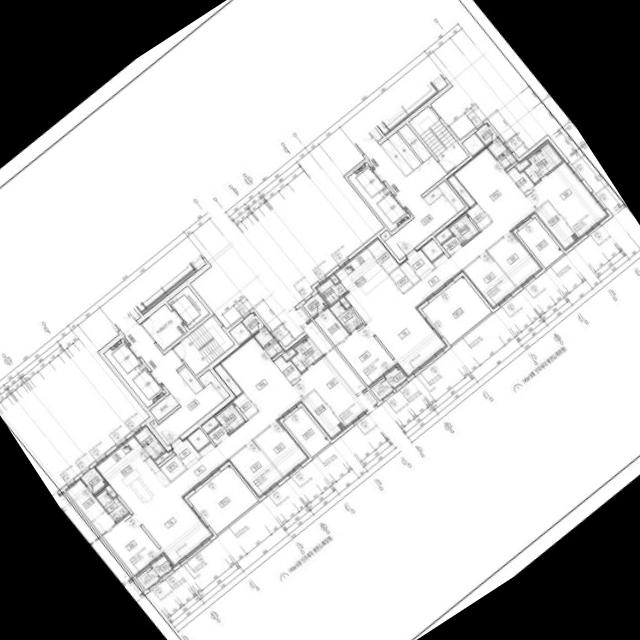background: (0, 0, 640, 640)
space_balconi: (187, 464, 257, 534), (420, 275, 491, 344), (516, 217, 563, 267), (282, 406, 329, 456), (369, 366, 406, 400), (150, 555, 173, 577)
space_bedroom: (524, 160, 608, 238), (291, 349, 374, 427), (91, 511, 162, 575), (335, 323, 396, 386), (487, 230, 542, 287), (253, 419, 308, 476), (228, 440, 283, 497), (462, 251, 516, 308)
space_dressroom: (300, 390, 341, 439), (534, 201, 575, 249), (65, 477, 104, 521), (312, 306, 348, 345), (273, 355, 300, 381), (507, 166, 533, 192)
space_elevator: (167, 285, 209, 329), (347, 161, 388, 203), (369, 188, 409, 231), (125, 364, 165, 407), (103, 338, 143, 380)
space_elevator_hall: (114, 303, 224, 445), (355, 131, 457, 259)
space_front: (398, 248, 434, 284), (170, 437, 200, 468)
space_kitchen: (94, 435, 170, 513), (333, 246, 403, 322)
space_living_room: (366, 146, 535, 376), (133, 336, 302, 566)
space_multipurpose_space: (133, 424, 165, 459), (486, 136, 516, 169), (253, 325, 283, 358), (314, 276, 347, 305)
space_other: (397, 123, 431, 161), (387, 131, 421, 169), (380, 138, 413, 175), (366, 237, 399, 273), (446, 173, 475, 207), (212, 363, 241, 396), (198, 369, 229, 399), (437, 180, 465, 212), (149, 393, 178, 420), (177, 366, 202, 393), (465, 203, 490, 229), (232, 392, 257, 418), (160, 455, 185, 480), (389, 266, 412, 292), (420, 237, 443, 261), (461, 132, 484, 155), (136, 566, 159, 589), (186, 427, 209, 450), (229, 322, 250, 343), (423, 186, 442, 204), (434, 226, 452, 243), (200, 415, 218, 432), (154, 449, 172, 464), (514, 157, 529, 171), (281, 346, 295, 360), (103, 483, 116, 497), (369, 127, 382, 140), (379, 229, 390, 240), (339, 296, 349, 308), (329, 273, 338, 283), (149, 419, 157, 427)
space_outdoor_room: (80, 466, 105, 493), (302, 292, 326, 316), (475, 122, 497, 144), (241, 311, 263, 333)
space_staircase: (408, 105, 468, 171), (173, 315, 234, 374)
space_toilet: (290, 331, 328, 372), (207, 403, 244, 444), (441, 214, 478, 254), (524, 143, 561, 182), (95, 489, 128, 521), (329, 300, 361, 332)
